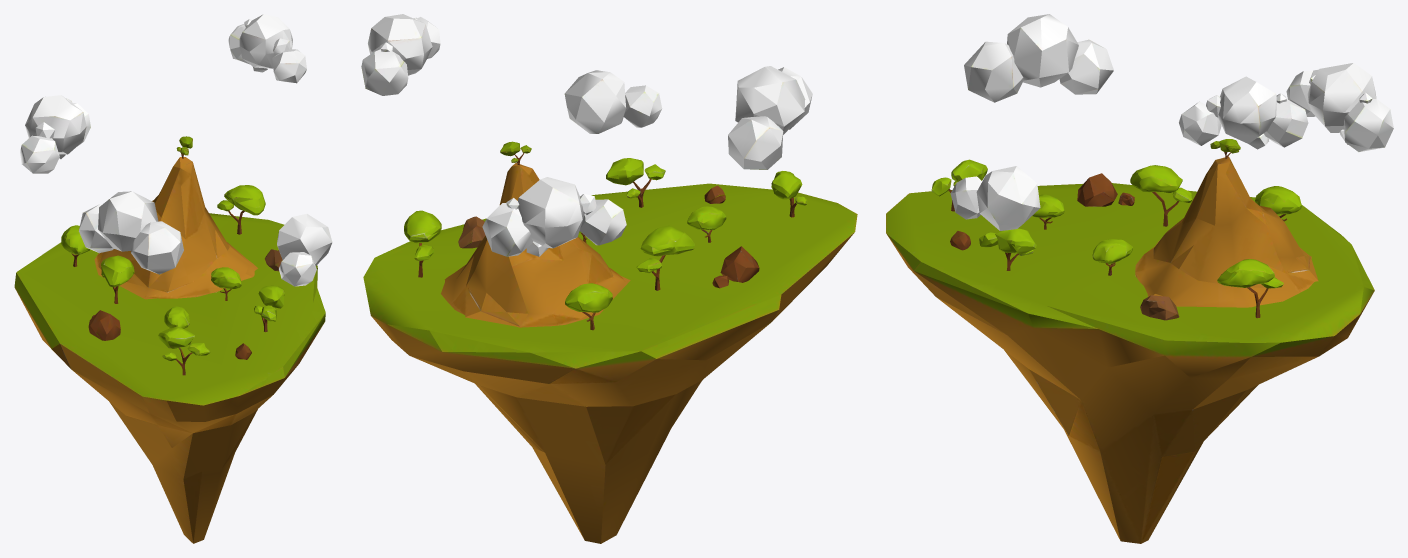
The model's file is floating_low_poly_island.glb.
The picture shows the model from 3 angles, left to right: view 1: azimuth 30°, elevation 25°; view 2: azimuth 150°, elevation 25°; view 3: azimuth 270°, elevation 25°; orthographic projection. The views are drawn at different scales.
Visible parts, largest first — view 1: Island_Material.007_0; view 2: Island_Material.007_0; view 3: Island_Material.007_0.
Boxes of the visible parts, <box> form: Island_Material.007_0: <box>14,14,332,543</box>; Island_Material.007_0: <box>361,14,857,543</box>; Island_Material.007_0: <box>886,14,1393,543</box>.
Bounding box in the file's own units: 76.39 × 113 × 98.72.
1 material, 1 textured.
